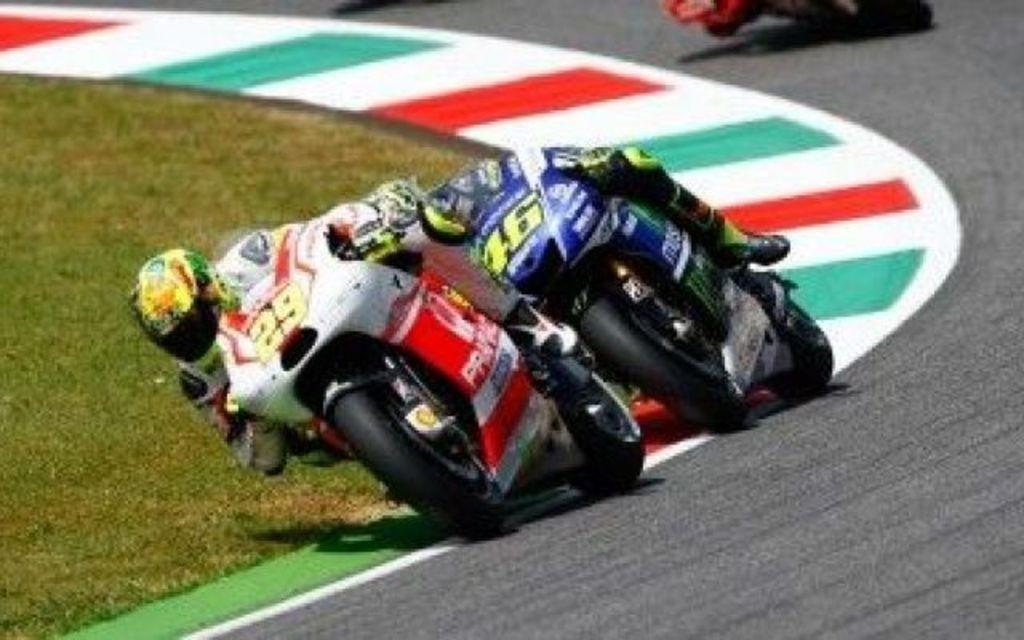helmet: (134, 248, 244, 383)
